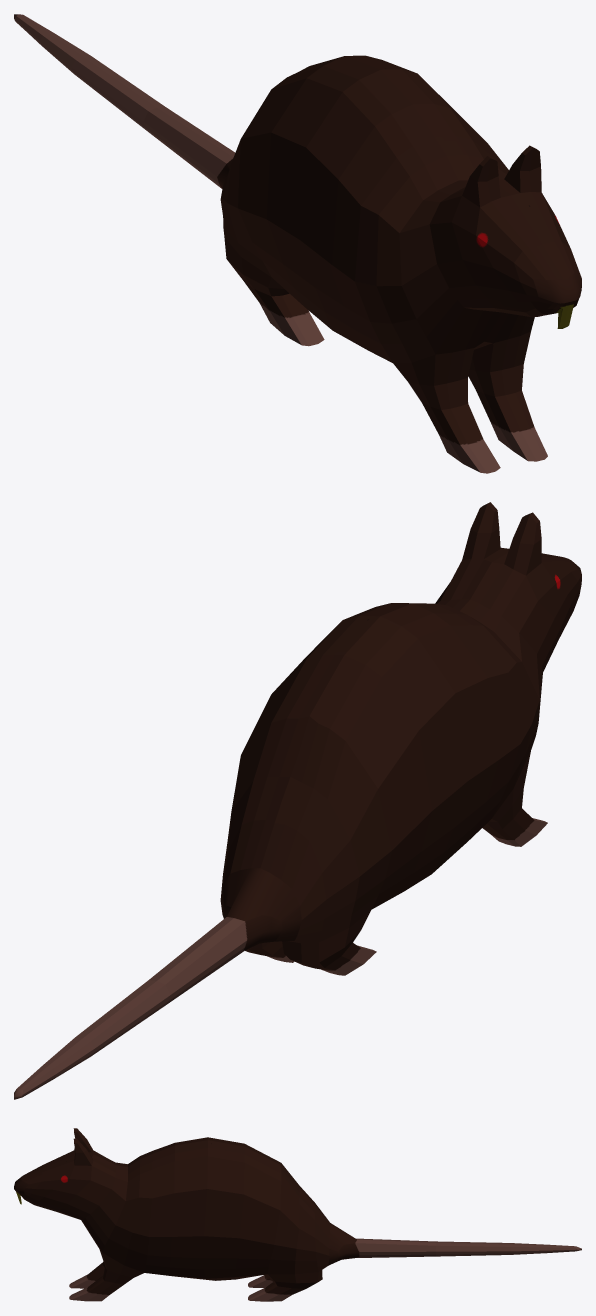
The model's file is EnemyRat.fbx.
The picture shows the model from 3 angles, top to bottom: view 1: azimuth 30°, elevation 25°; view 2: azimuth 150°, elevation 25°; view 3: azimuth 270°, elevation 25°; orthographic projection. The views are drawn at different scales.
Visible parts, largest first — view 1: RatRight; view 2: RatRight; view 3: RatRight.
Part boxes in pixels (left/top/right/bottom): RatRight: left=14, top=14, right=581, bottom=473; RatRight: left=14, top=502, right=581, bottom=1099; RatRight: left=14, top=1128, right=581, bottom=1301.
Size of the model in its own units: 4.72 by 8.43 by 27.18.
Materials: 1 (1 with a texture image).
